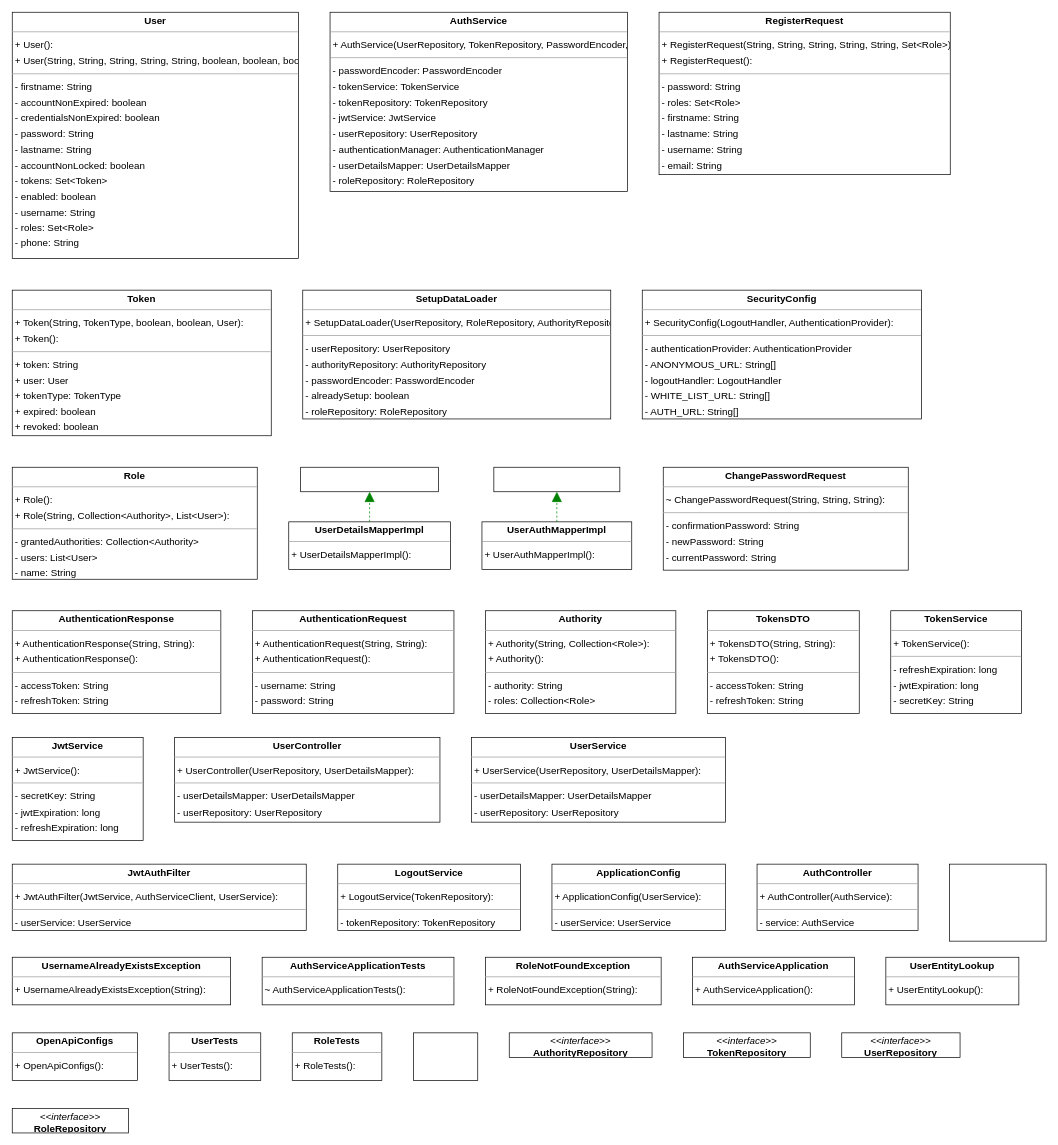
Image size: 1058x1145. Some labels were removed from this diagram. The shapes that lost their labels are listed below. From the top down, each one's centre as x and y in pixels, then its label:
At point (369, 479): "<<interface>> UserDetailsMapper".
At point (556, 479): "<<interface>> UserAuthMapper".
At point (997, 902): "<<enumeration>> TokenType - TokenType(): + BEARER:".
At point (445, 1056): "build + build():".
